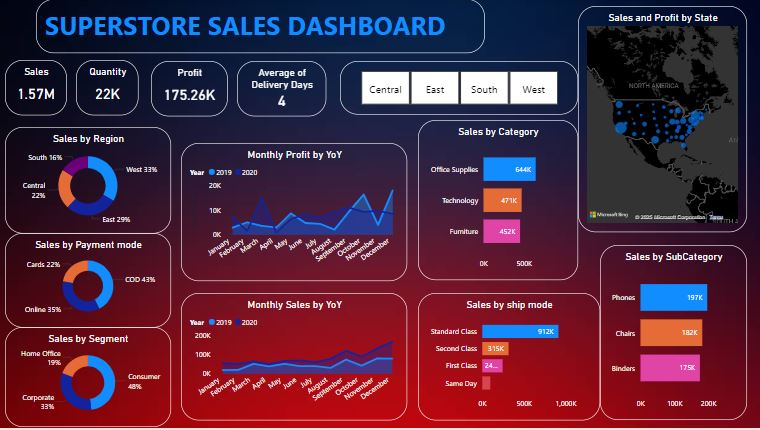

Layout of this report page (visuals, bound fields, positions):
{"tool":"powerbi","page":{"name":"SUPERSTORE SALES DASBOARD","canvas":[1280,720],"ordinal":0},"visuals":[{"type":"barChart","title":"Sales by Category","fields":{"Category":["Sheet1.Category"],"Y":["Sum(Sheet1.Sales)"]},"box":[705.9,203.9,268.6,268.6],"z":0},{"type":"barChart","title":"Sales by SubCategory","fields":{"Y":["Sum(Sheet1.Sales)"],"Category":["Sheet1.Sub-Category"]},"box":[1011.8,413.7,247.1,294.1],"z":1000},{"type":"barChart","title":"Sales by ship mode","fields":{"Y":["Sum(Sheet1.Sales)"],"Category":["Sheet1.Ship Mode"]},"box":[705.9,494.1,305.9,213.7],"z":2000},{"type":"areaChart","title":"Monthly Sales by YoY","fields":{"Category":["Sheet1.Order Date.Variation.Date Hierarchy.Month","Sheet1.Order Date.Variation.Date Hierarchy.Day"],"Y":["Sum(Sheet1.Sales)"],"Series":["Sheet1.Order Date.Variation.Date Hierarchy.Year"]},"box":[307.8,494.1,380.4,213.7],"z":3000},{"type":"areaChart","title":"Monthly Profit by YoY","fields":{"Category":["Sheet1.Order Date.Variation.Date Hierarchy.Month","Sheet1.Order Date.Variation.Date Hierarchy.Day"],"Series":["Sheet1.Order Date.Variation.Date Hierarchy.Year"],"Y":["Sum(Sheet1.Profit)"]},"box":[307.1,241.1,380.4,232.1],"z":4000},{"type":"map","title":"Sales and Profit by State","fields":{"Size":["Sum(Sheet1.Sales)"],"Category":["Sheet1.State"]},"box":[974.5,11.8,284.3,380.4],"z":5000},{"type":"donutChart","title":"Sales by Segment","fields":{"Category":["Sheet1.Segment"],"Y":["Sum(Sheet1.Sales)"]},"box":[12.5,551.8,278.6,167.9],"z":6000},{"type":"donutChart","title":"Sales by Region","fields":{"Y":["Sum(Sheet1.Sales)"],"Category":["Sheet1.Region"]},"box":[12.5,214.3,278.6,178.6],"z":7000},{"type":"slicer","fields":{"Values":["Sheet1.Region"]},"box":[574.5,103.9,400,90.2],"z":8000},{"type":"textbox","box":[64.3,0,753.6,91.1],"z":9000},{"type":"card","title":"Sales","fields":{"Values":["Sum(Sheet1.Sales)"]},"box":[12.5,101.8,103.6,92.9],"z":10000},{"type":"card","title":"Quantity","fields":{"Values":["Sum(Sheet1.Quantity)"]},"box":[130.4,101.8,105.4,92.9],"z":11000},{"type":"card","title":"Profit","fields":{"Values":["Sum(Sheet1.Profit)"]},"box":[257.1,103.6,128.6,92.9],"z":12000},{"type":"card","title":"Average of Delivery Days","fields":{"Values":["Avg(Sheet1.Average_DeliveryDate)"]},"box":[401.8,103.6,150,92.9],"z":13000},{"type":"donutChart","title":"Sales by Payment mode","fields":{"Y":["Sum(Sheet1.Sales)"],"Category":["Sheet1.Payment Mode"]},"box":[12.5,392.9,278.6,158.9],"z":13001}]}

Visuals, with their boxes in screenshot pixels (x1, y1, x2, y2), scaled from the page's 1280x720 canvas onto the 760x430 screenshot:
"Sales by Category" barChart: locate(419, 122, 579, 282)
"Sales by SubCategory" barChart: locate(601, 247, 747, 423)
"Sales by ship mode" barChart: locate(419, 295, 601, 423)
"Monthly Sales by YoY" areaChart: locate(183, 295, 409, 423)
"Monthly Profit by YoY" areaChart: locate(182, 144, 408, 283)
"Sales and Profit by State" map: locate(579, 7, 747, 234)
"Sales by Segment" donutChart: locate(7, 330, 173, 429)
"Sales by Region" donutChart: locate(7, 128, 173, 235)
slicer - Sheet1.Region: locate(341, 62, 579, 116)
textbox: locate(38, 0, 486, 54)
"Sales" card: locate(7, 61, 69, 116)
"Quantity" card: locate(77, 61, 140, 116)
"Profit" card: locate(153, 62, 229, 117)
"Average of Delivery Days" card: locate(239, 62, 328, 117)
"Sales by Payment mode" donutChart: locate(7, 235, 173, 330)
